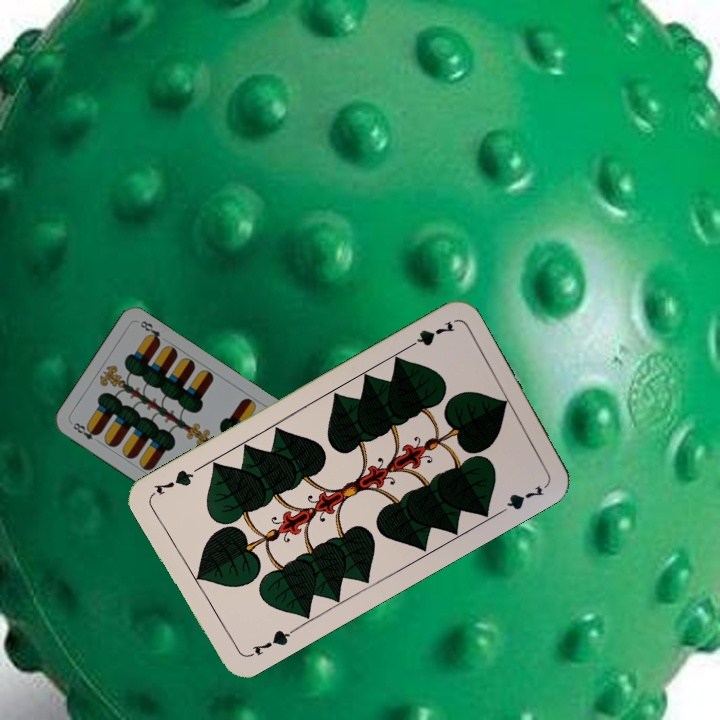E8: (67, 418, 102, 443)
G7: (401, 316, 457, 353), (243, 625, 297, 660)
